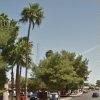Palm tree: (5, 4, 45, 77)
